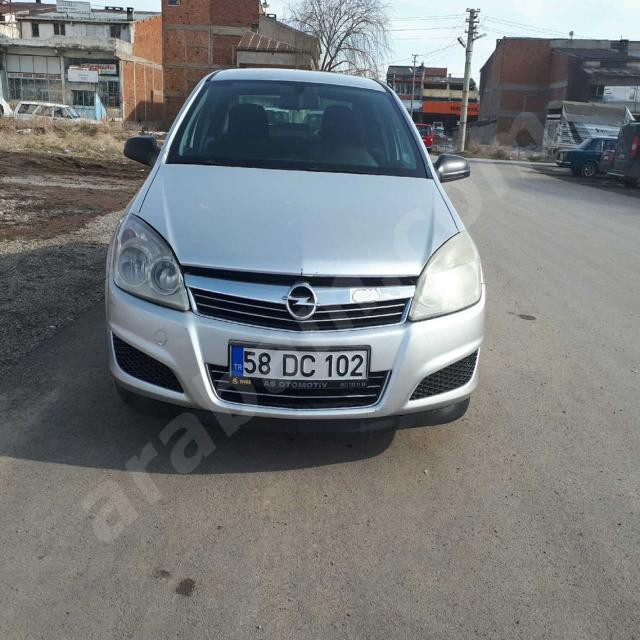license_plate: (230, 344, 368, 380)
